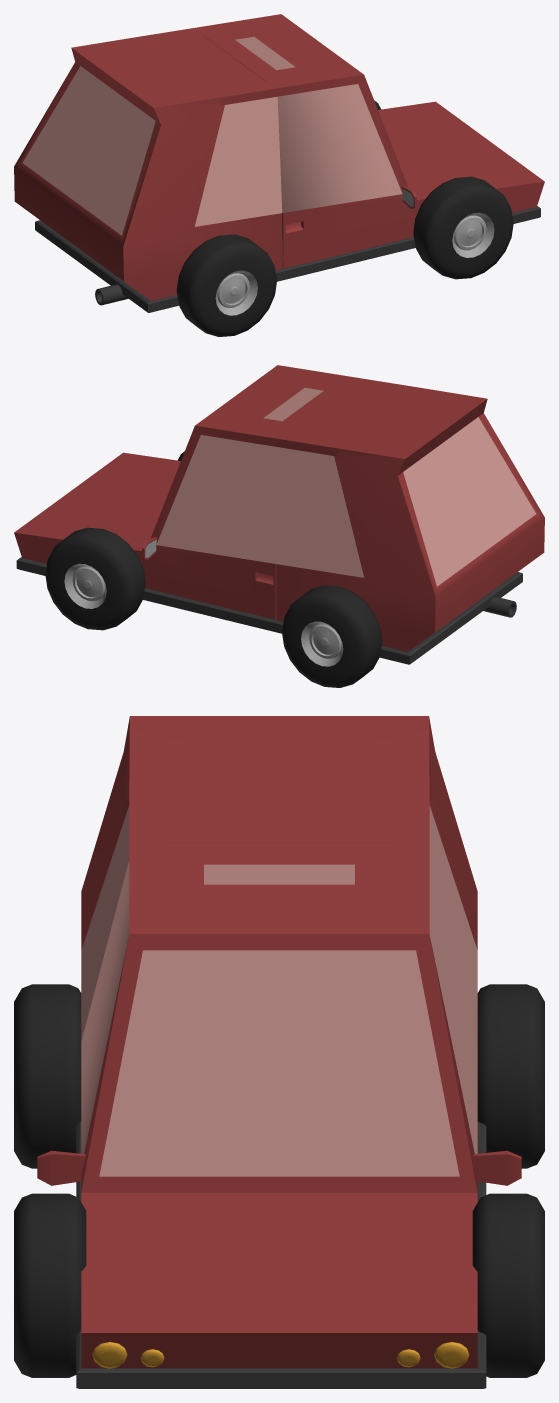
File: Car_03.fbx
3 views of the same model, one above another, from view 1: azimuth 30°, elevation 25°; view 2: azimuth 150°, elevation 25°; view 3: azimuth 270°, elevation 25° (orthographic). The views are drawn at different scales.
Parts seen in each view (by area): view 1: CarFrame_01, CarFrame-Right_01; view 2: CarFrame_01, CarDoor-Left_01; view 3: CarFrame_01, CarDoor-Left_01, CarFrame-Right_01.
Boxes of the visible parts, x1,y1,x2,y2 form: CarFrame_01: (14,14,544,336); CarFrame-Right_01: (277,74,416,268); CarFrame_01: (14,365,544,687); CarDoor-Left_01: (142,425,287,619); CarFrame_01: (14,716,544,1388); CarDoor-Left_01: (429,854,521,1192); CarFrame-Right_01: (37,860,129,1192).
Size of the model in its own units: 4.83 by 2.41 by 2.9.
